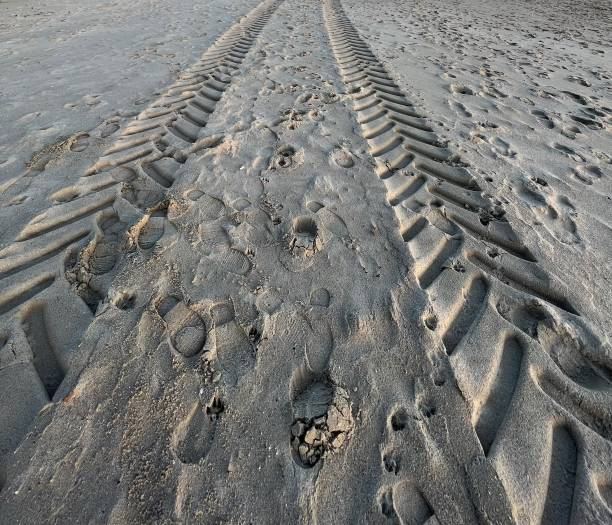vehicle_track: (323, 0, 611, 522), (0, 0, 280, 457)
